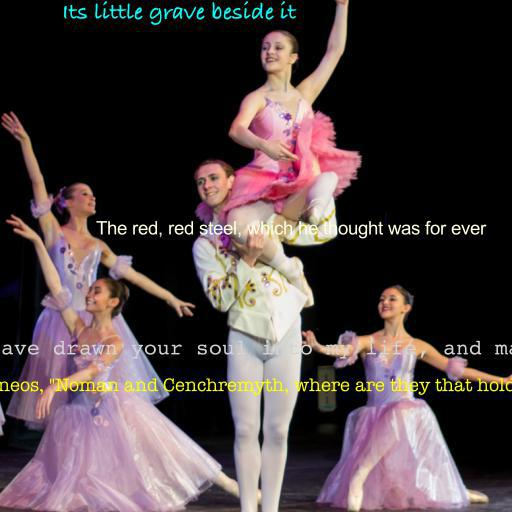American Typewriter: (0, 378, 512, 395)
Arial: (96, 220, 486, 239)
Bradley Hand: (62, 1, 296, 25)
Courier: (0, 340, 512, 359)
